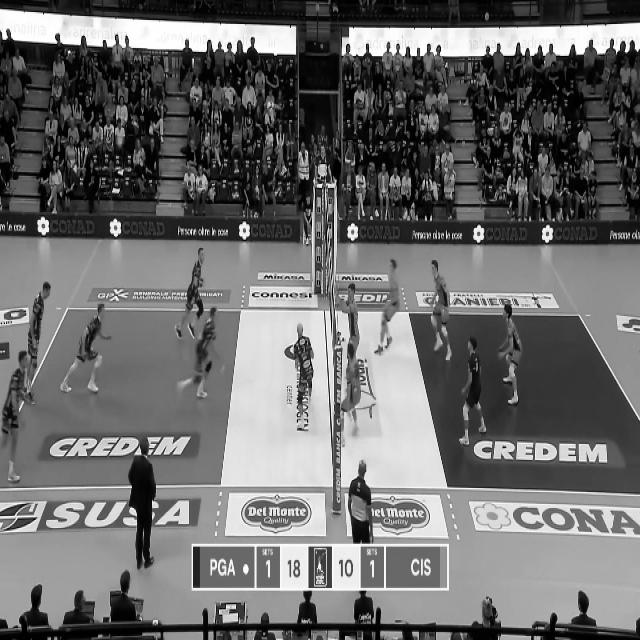volleyball court: (0, 303, 636, 492)
